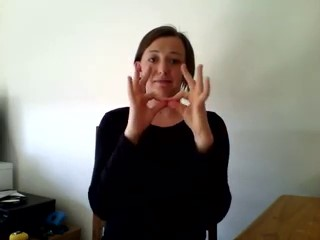B: (121, 60, 213, 133)
